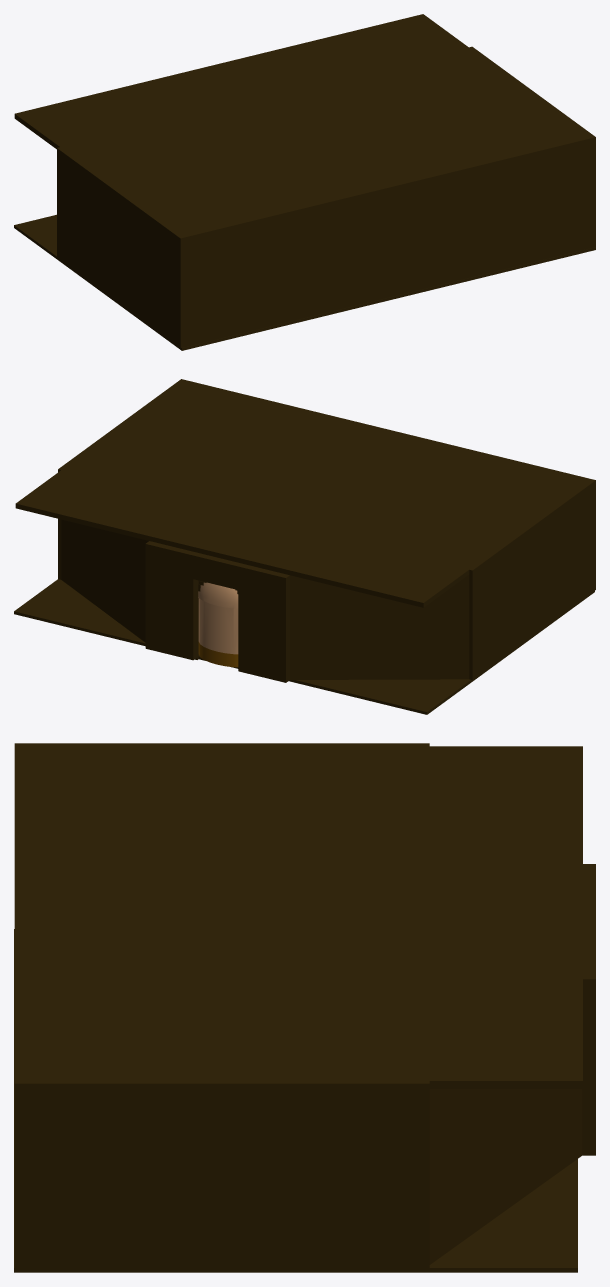
File: OrchestraHall4.fbx
The picture shows the model from 3 angles, top to bottom: view 1: azimuth 30°, elevation 25°; view 2: azimuth 150°, elevation 25°; view 3: azimuth 270°, elevation 25°; orthographic projection. The views are drawn at different scales.
Parts seen in each view (by area): view 1: pCube9; view 2: pCube9, pSphere13; view 3: pCube9.
Part boxes in pixels (x1,y1,x2,y2): pCube9: [14, 14, 595, 350]; pCube9: [14, 379, 595, 714]; pSphere13: [198, 582, 238, 667]; pCube9: [14, 743, 595, 1272].
Size of the model in its own units: 716 by 186 by 518.
